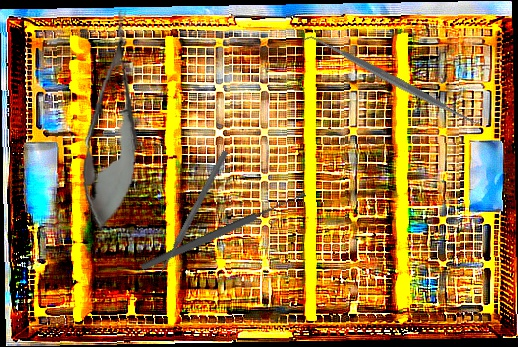Micro Scissor: (75, 7, 151, 234)
Pusher: (155, 149, 230, 278)
Spatula Surgical: (301, 24, 483, 136)
Surgical Spoon: (139, 190, 308, 272)
